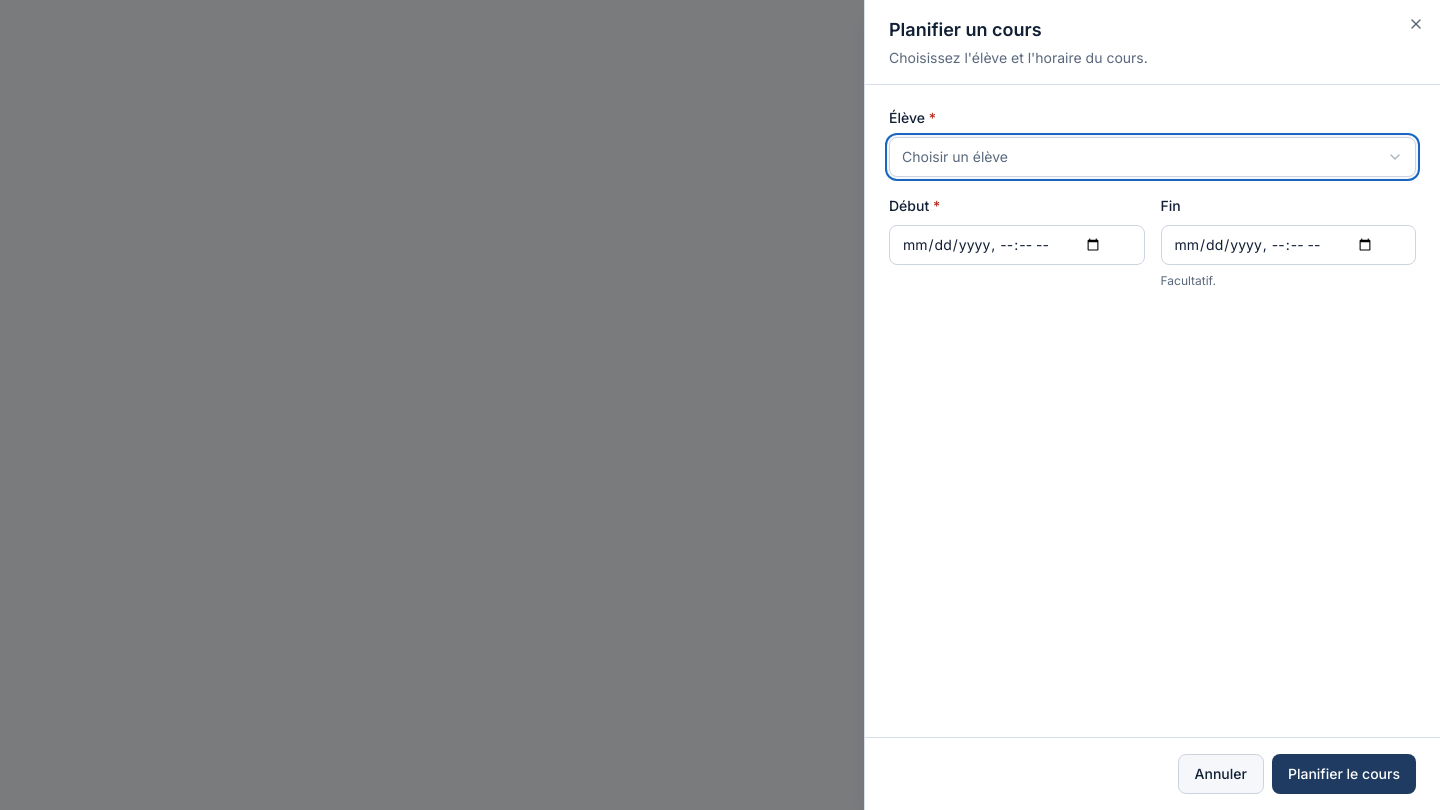
Test: CourseFormDialog › refuse une fin antérieure au début
Expected: the heading "Planifier un cours" is shown, [889, 19, 1042, 40]
In the field labelled "Début *": (1017, 245) [889, 225, 1144, 265], type "2026-11-20T10:00"
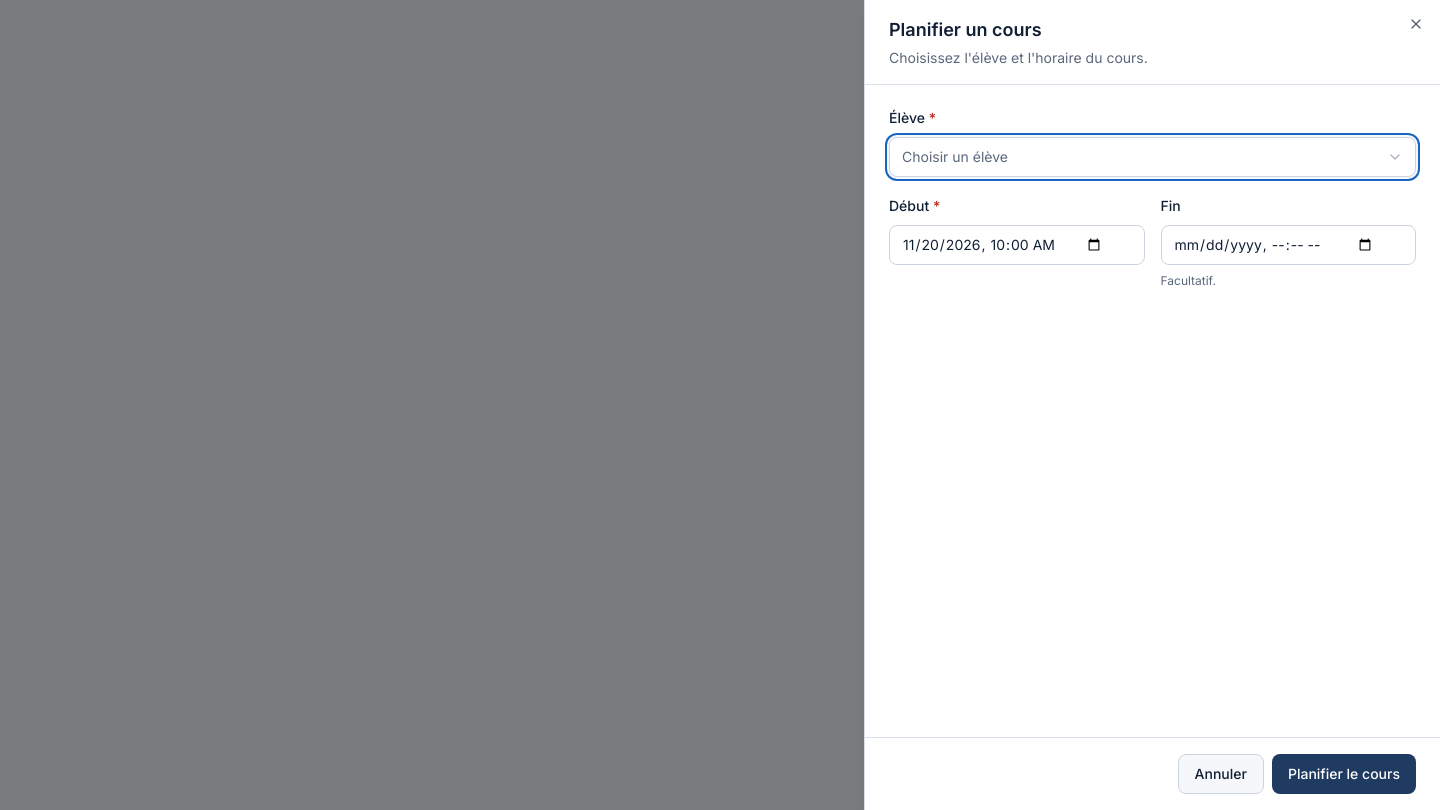
In the field labelled "Fin": (1288, 245) [1160, 225, 1416, 265], type "2026-11-20T09:00"
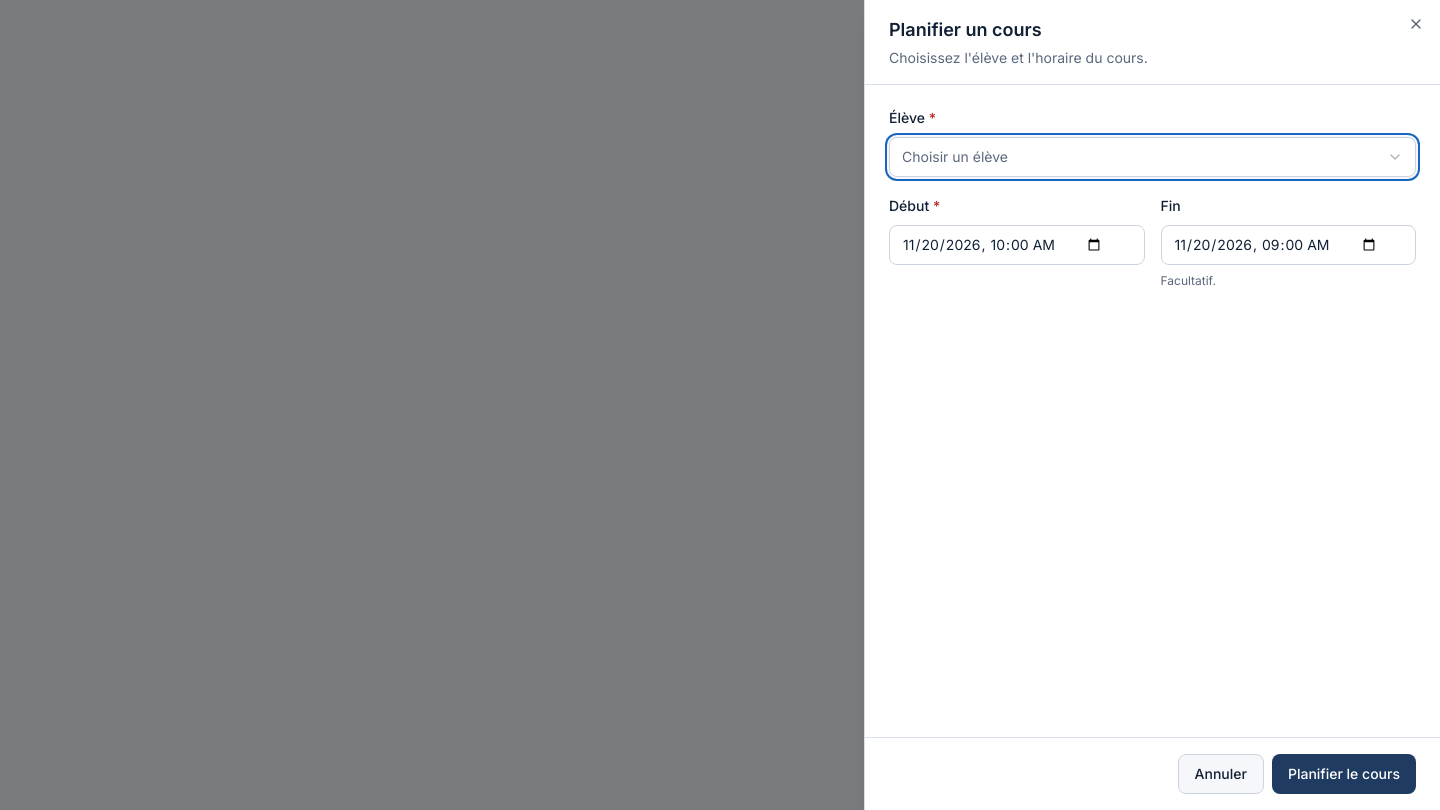
Click the button "Planifier le cours": (1344, 774) [1272, 754, 1416, 794]
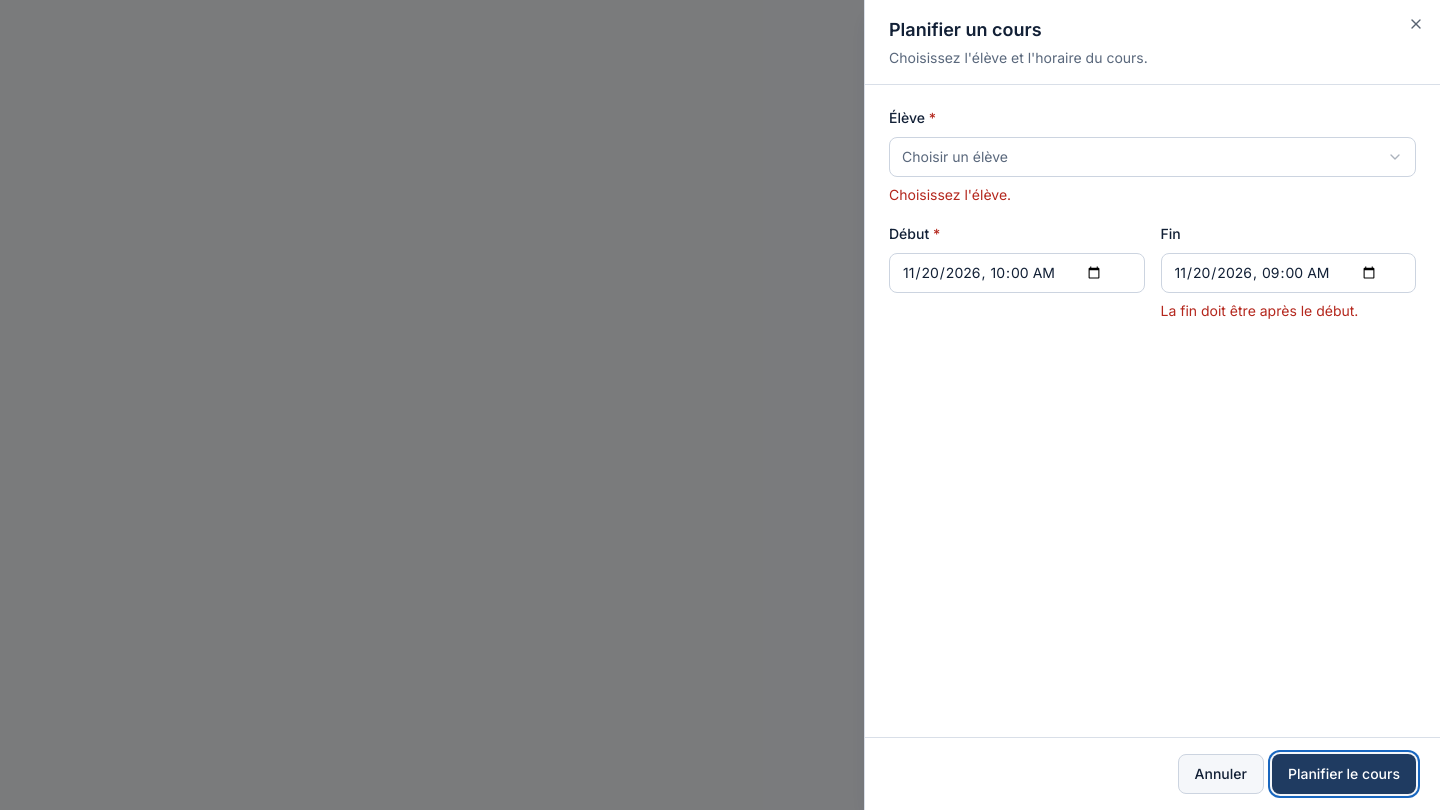
Now the text "La fin doit être après le début." is shown, box [1160, 302, 1358, 319]
